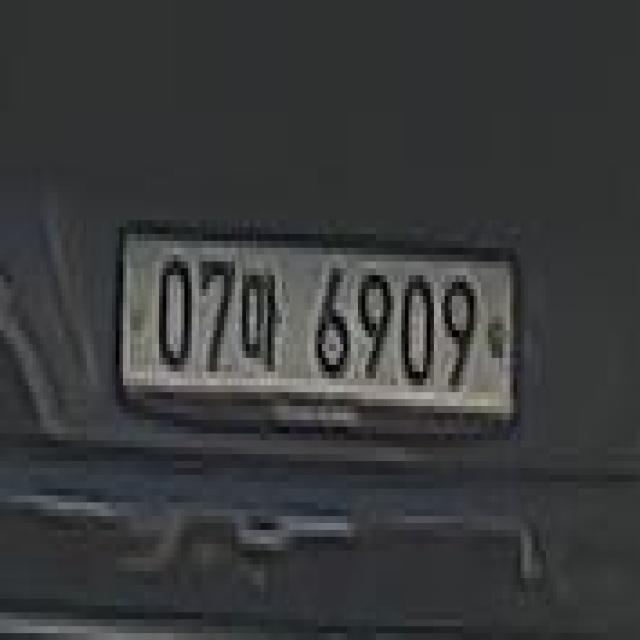illegal_plate: (113, 213, 524, 455)
